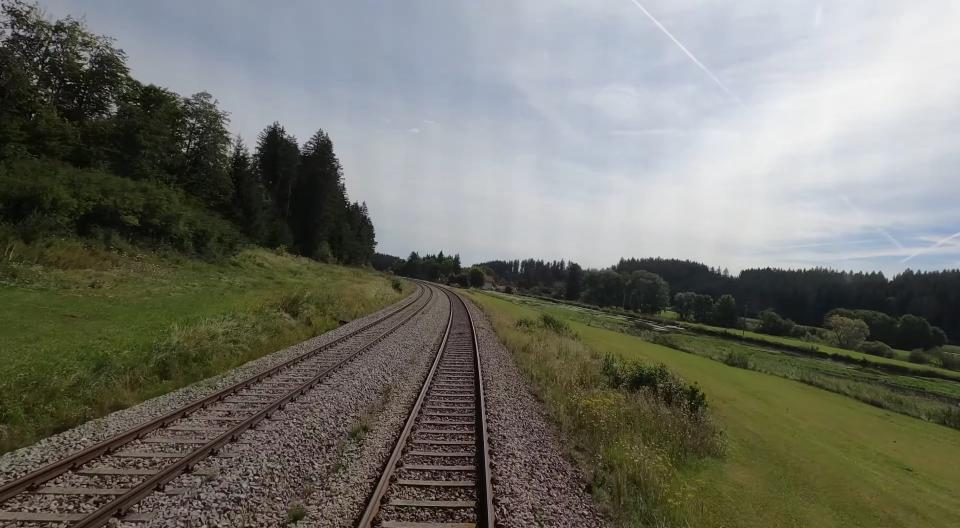Plant: (364, 385, 393, 416), (348, 423, 370, 441), (288, 504, 307, 522), (333, 462, 344, 472), (304, 485, 314, 496)
